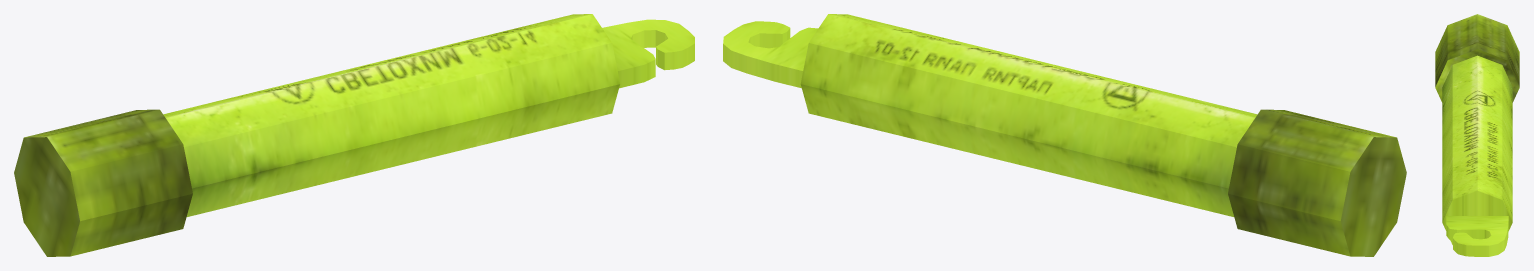
Rendered from glow_stick.glb.
3 renders of one model, left to right at view 1: azimuth 30°, elevation 25°; view 2: azimuth 150°, elevation 25°; view 3: azimuth 270°, elevation 25°, orthographic. The views are drawn at different scales.
Visible parts, largest first — view 1: Plane.001; view 2: Plane.001; view 3: Plane.001.
Part boxes in pixels (x1,y1,x2,y2): Plane.001: (14, 14, 694, 256); Plane.001: (723, 14, 1406, 256); Plane.001: (1435, 14, 1519, 256).
Size of the model in its own units: 0.6503 by 0.1162 by 0.1162.
1 material, 1 textured.
